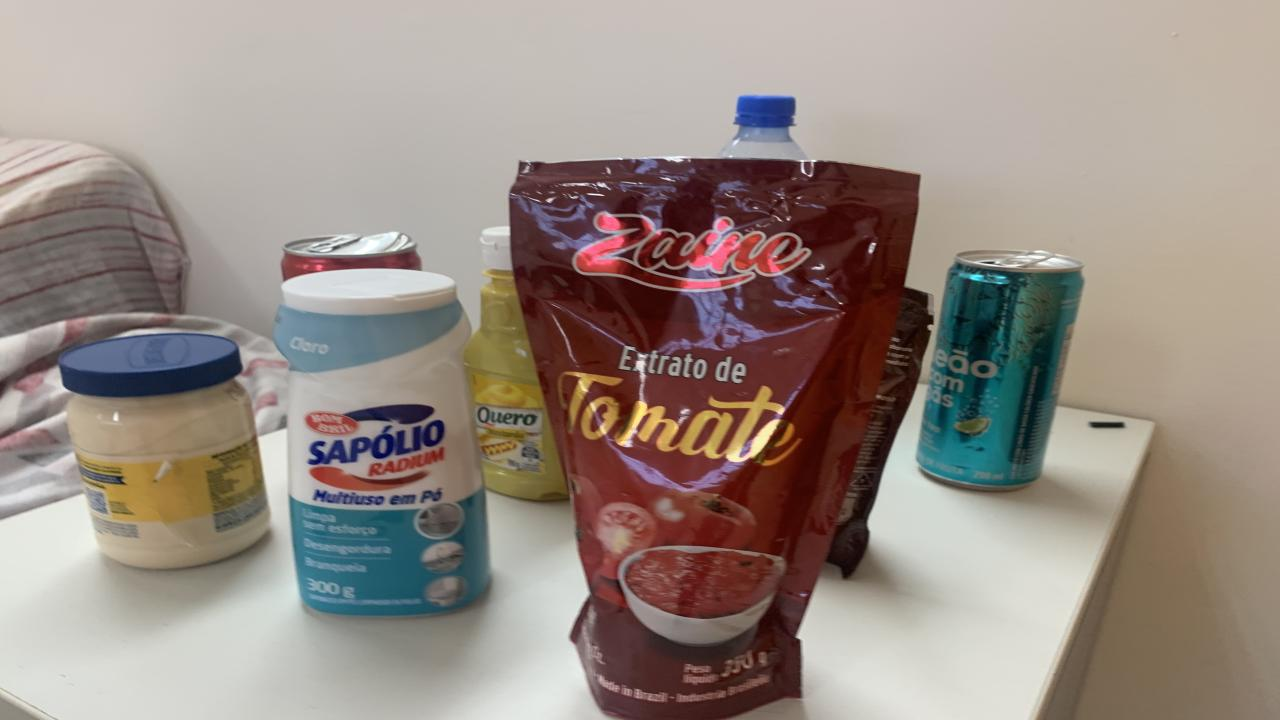Cleaner-Cleanup_Items: (275, 268, 488, 615)
Coffee-Pantry_Items: (828, 287, 932, 578)
Coke-Drinks: (280, 232, 422, 279)
Mayonnaise-Pantry_Items: (60, 332, 270, 568)
Mustard-Pantry_Items: (465, 227, 568, 501)
Tea-Drinks: (918, 249, 1082, 489)
Tomato_Sauce-Pantry_Items: (510, 158, 918, 718)
Water_Bottle-Drinks: (718, 96, 805, 159)
